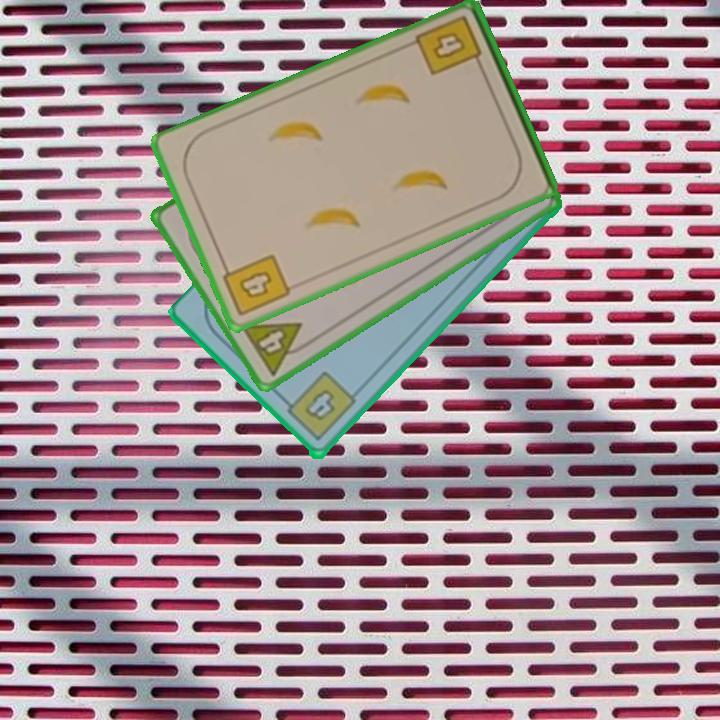4b: (278, 368, 359, 445), (218, 251, 294, 320), (412, 12, 486, 79)
4p: (237, 318, 316, 379)
